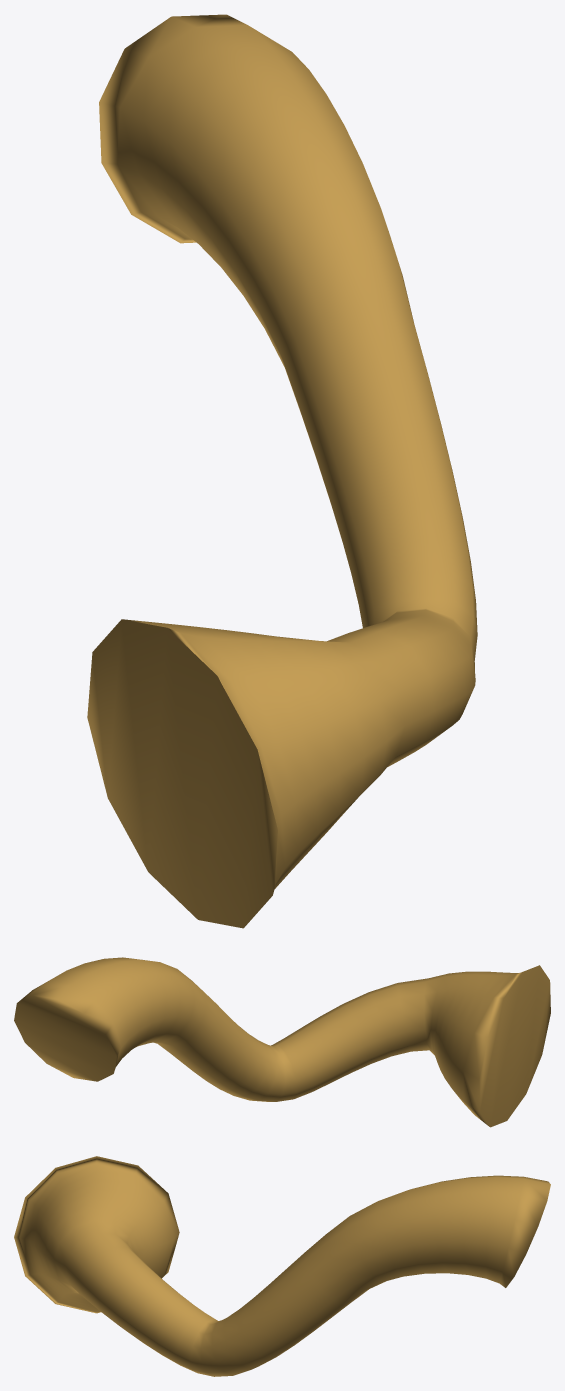
The picture shows the model from 3 angles, top to bottom: view 1: azimuth 30°, elevation 25°; view 2: azimuth 150°, elevation 25°; view 3: azimuth 270°, elevation 25°; orthographic projection. The views are drawn at different scales.
Visible parts, largest first — view 1: 左侧后交叉韧带; view 2: 左侧后交叉韧带; view 3: 左侧后交叉韧带.
Part boxes in pixels (x1,y1,x2,y2): 左侧后交叉韧带: (87,14,477,928); 左侧后交叉韧带: (14,957,550,1127); 左侧后交叉韧带: (14,1156,550,1376).
Size of the model in its own units: 0.0344 by 0.0274 by 0.0559.
